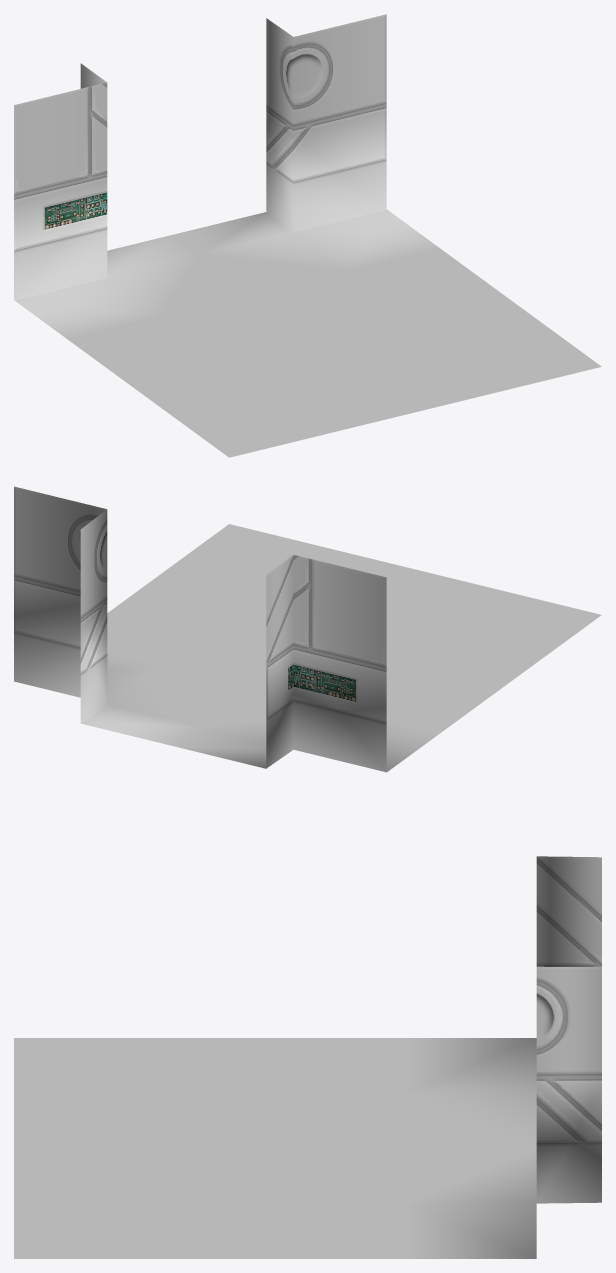
The model's file is FloorSide_Door.fbx.
3 views of the same model, one above another, from view 1: azimuth 30°, elevation 25°; view 2: azimuth 150°, elevation 25°; view 3: azimuth 270°, elevation 25° (orthographic). The views are drawn at different scales.
Visible parts, largest first — view 1: Mesh; view 2: Mesh; view 3: Mesh.
Part boxes in pixels (left/top/right/bottom): Mesh: left=14, top=14, right=601, bottom=457; Mesh: left=14, top=486, right=601, bottom=772; Mesh: left=14, top=856, right=601, bottom=1258.
Size of the model in its own units: 400 by 200 by 450.
2 materials, 1 textured.
